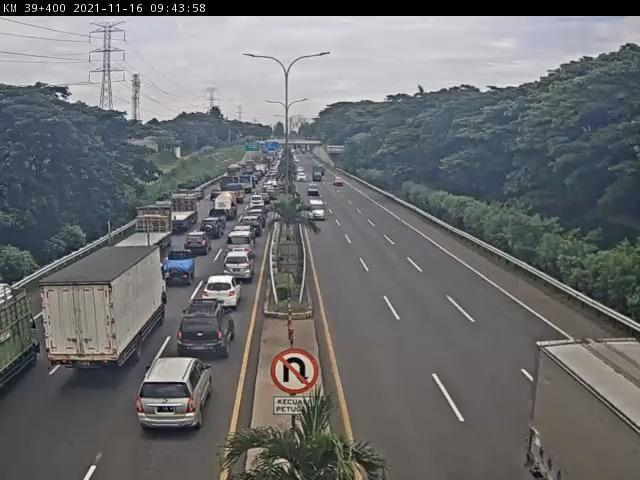car: (137, 357, 218, 442), (176, 300, 239, 364), (201, 274, 241, 314), (160, 251, 195, 288), (223, 252, 256, 286), (227, 232, 256, 262), (182, 233, 210, 258), (204, 218, 227, 241)
truck: (37, 246, 169, 376), (105, 206, 174, 265), (158, 193, 200, 237)
